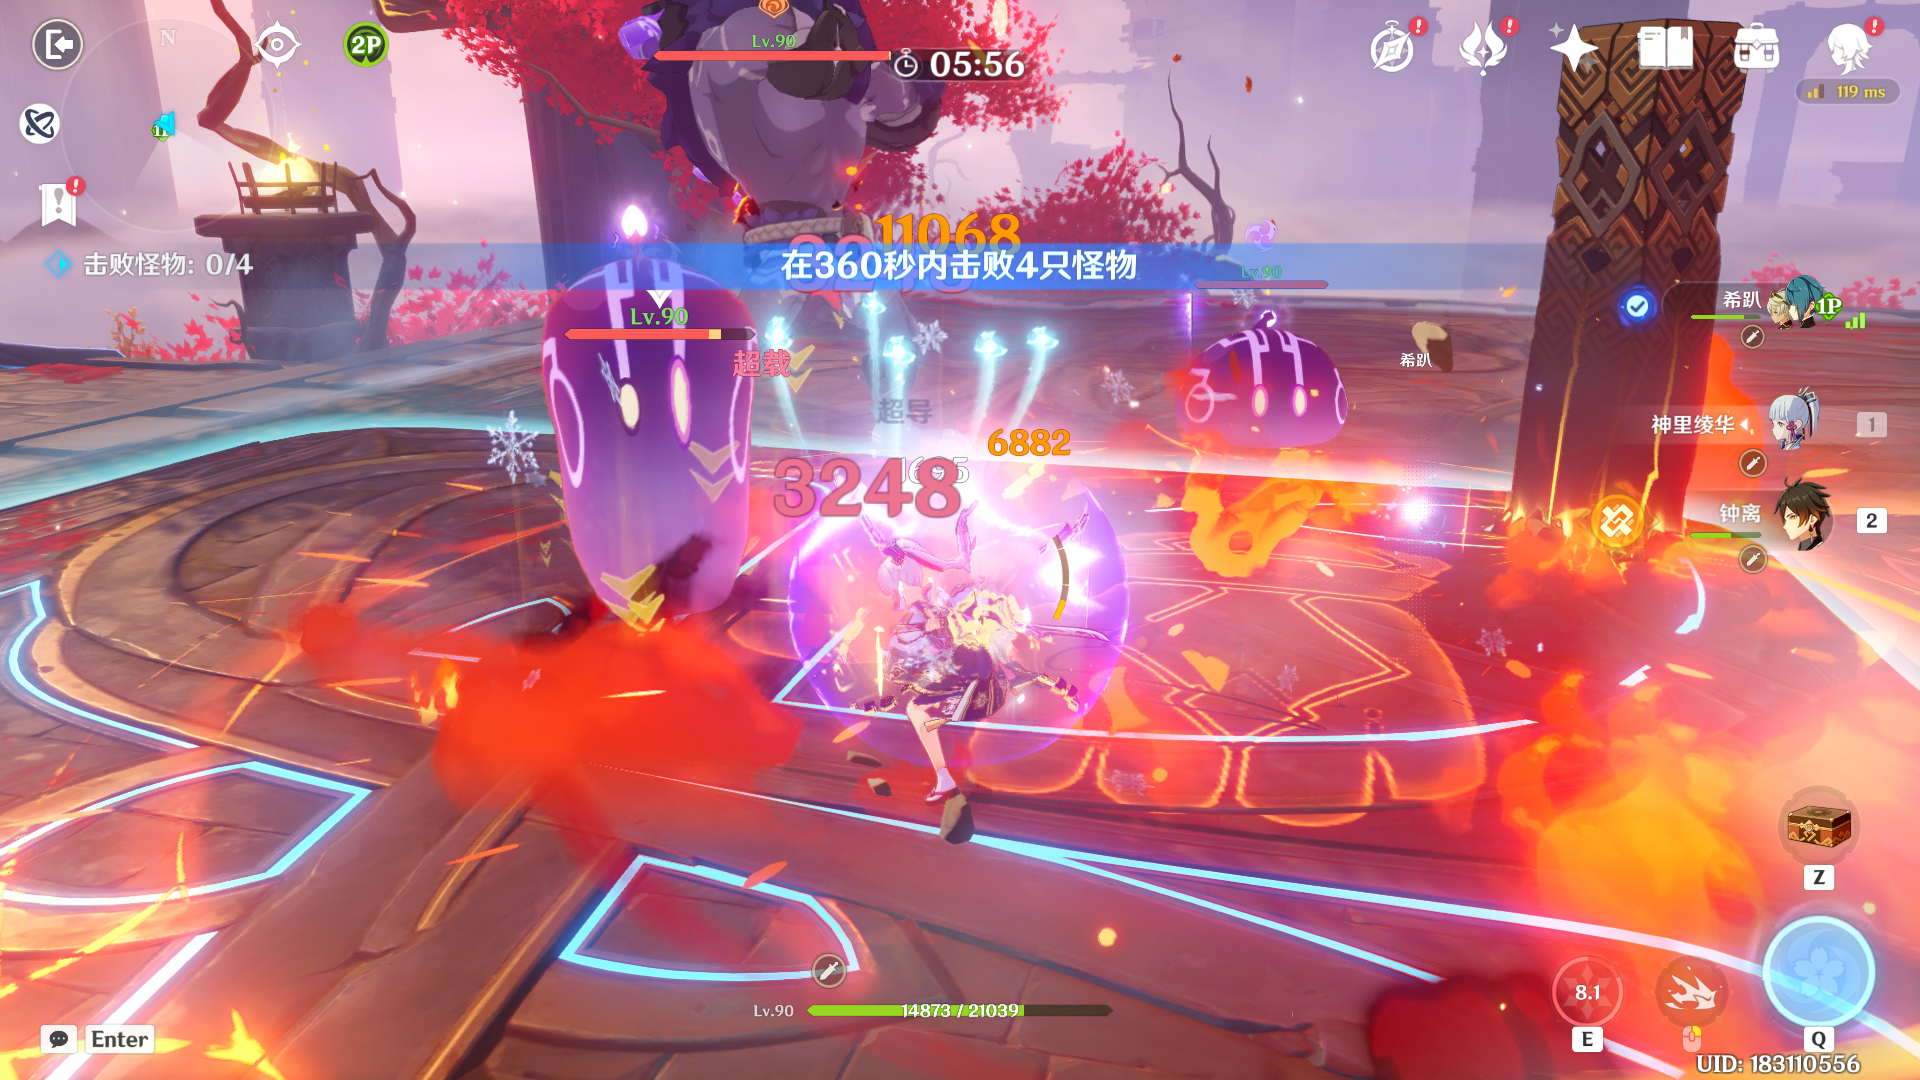character: (833, 505, 1098, 857)
slime: (505, 269, 791, 641), (1155, 306, 1390, 505)
